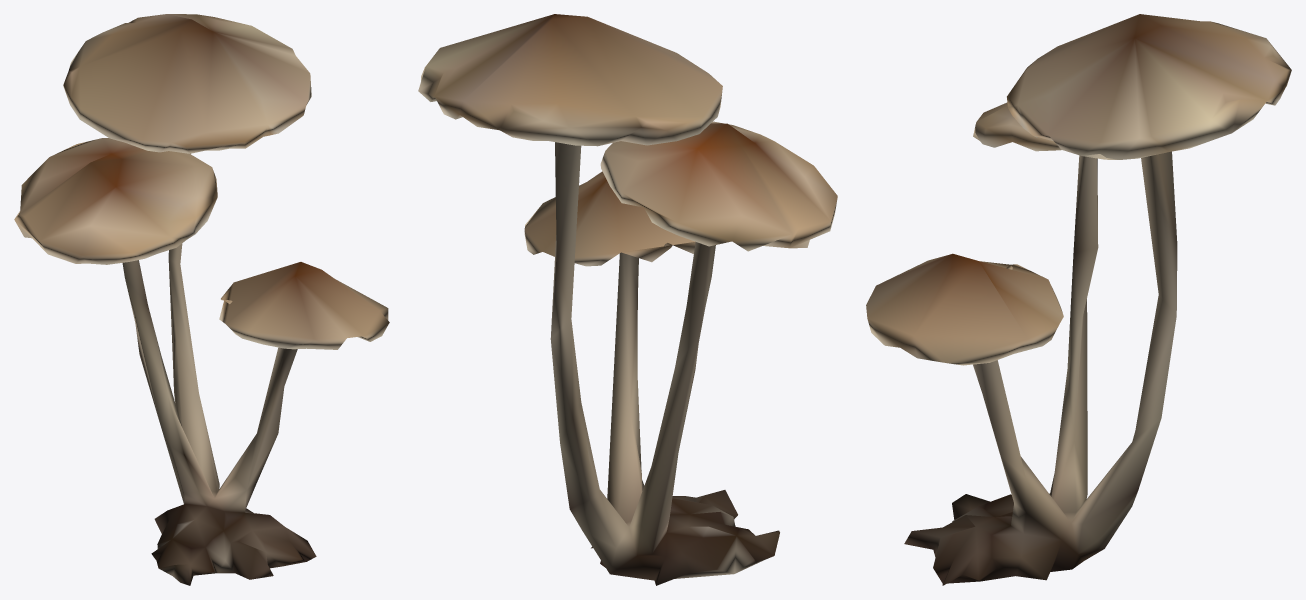
The model's file is mushroom_parasol.glb.
The picture shows the model from 3 angles, left to right: view 1: azimuth 30°, elevation 25°; view 2: azimuth 150°, elevation 25°; view 3: azimuth 270°, elevation 25°; orthographic projection. The views are drawn at different scales.
Visible parts, largest first — view 1: mushroom_parasol_0; view 2: mushroom_parasol_0; view 3: mushroom_parasol_0.
Part boxes in pixels (<box>): mushroom_parasol_0: <box>14,14,389,585</box>; mushroom_parasol_0: <box>418,14,837,585</box>; mushroom_parasol_0: <box>866,14,1291,585</box>.
Bounding box in the file's own units: 0.3304 × 0.5172 × 0.3638.
